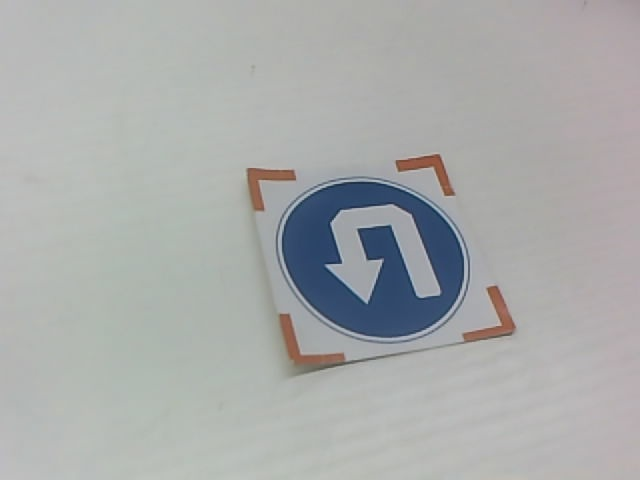turn_around: (253, 133, 480, 366)
